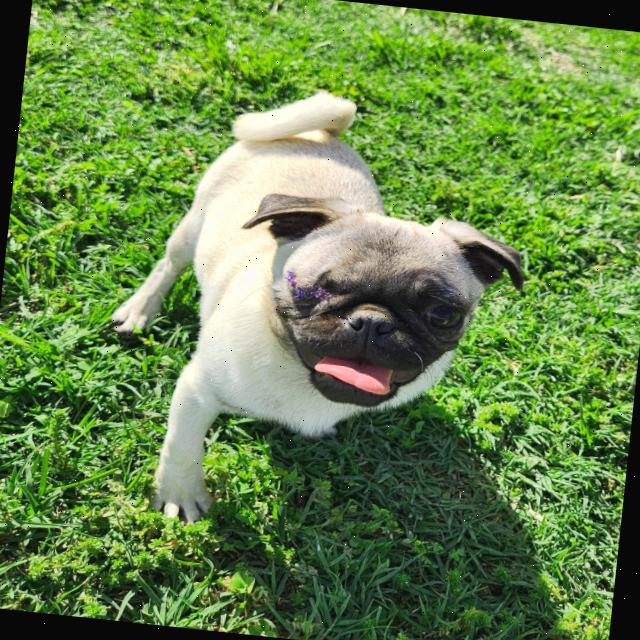pug_dog: (210, 182, 546, 433)
